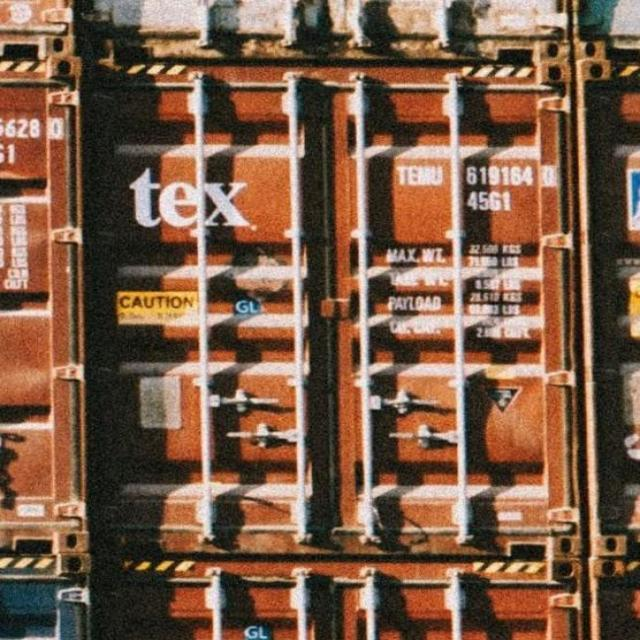ISO: (469, 190, 514, 213)
container_number: (402, 164, 558, 190)
